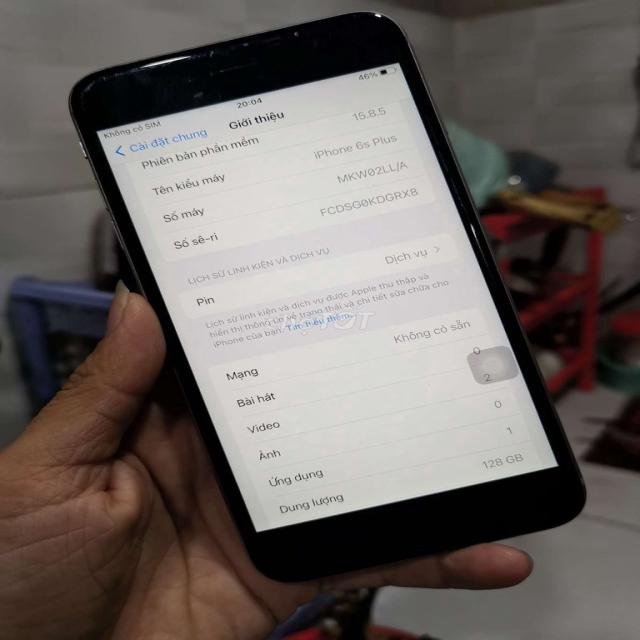gen_6: (64, 10, 595, 598)
scratch: (59, 25, 418, 116)
